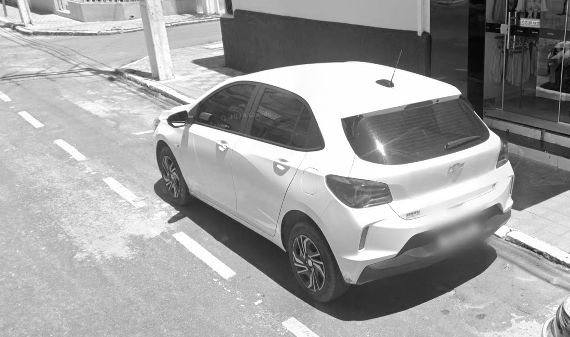car: (150, 47, 524, 307)
